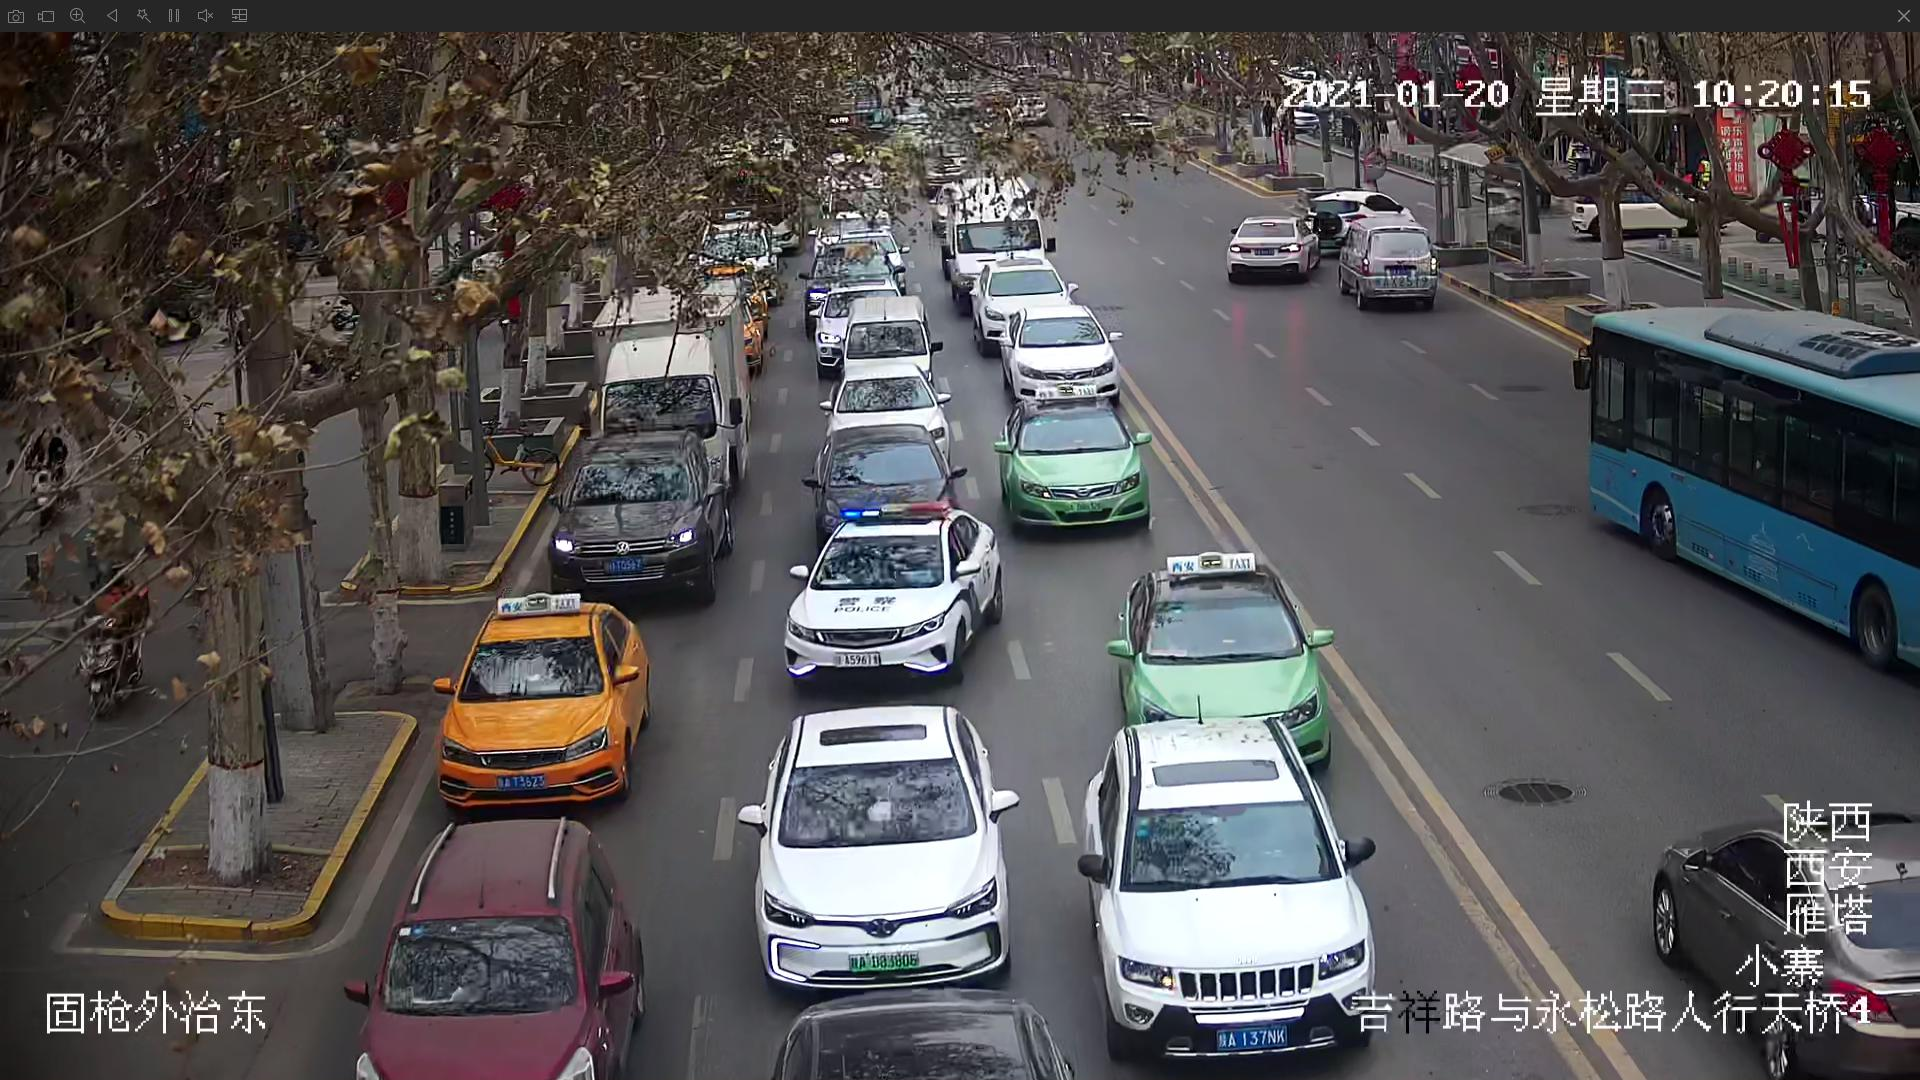orange: (433, 595, 641, 804)
red: (359, 811, 647, 1080)
white: (1087, 727, 1390, 1058), (745, 704, 1019, 978), (789, 502, 1002, 694)
